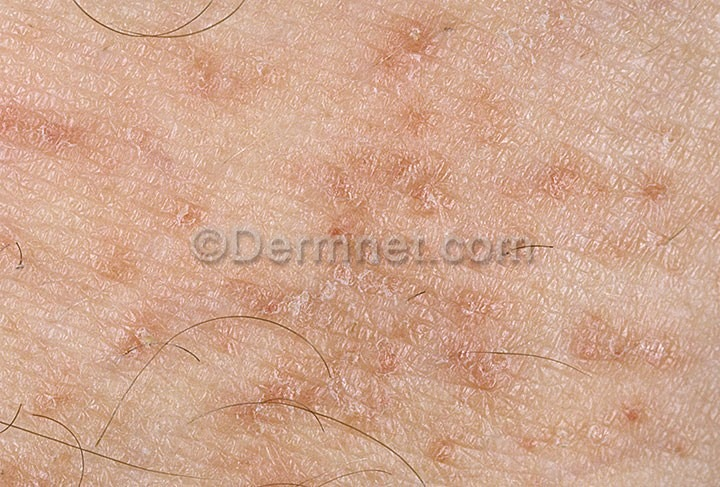Eczema: (3, 2, 717, 486)
